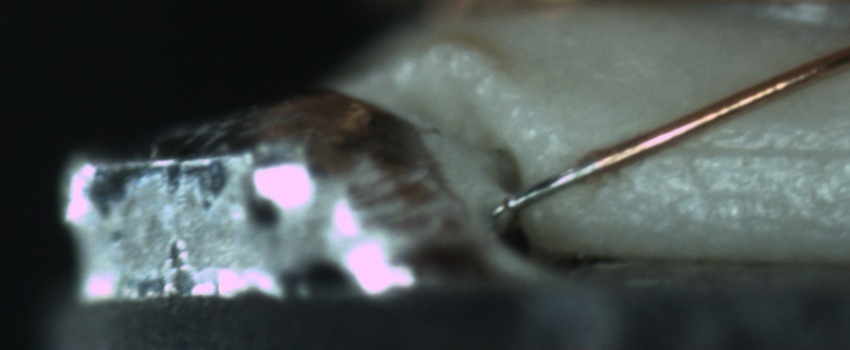DL: (667, 118, 850, 184)
TS: (500, 158, 600, 214)
